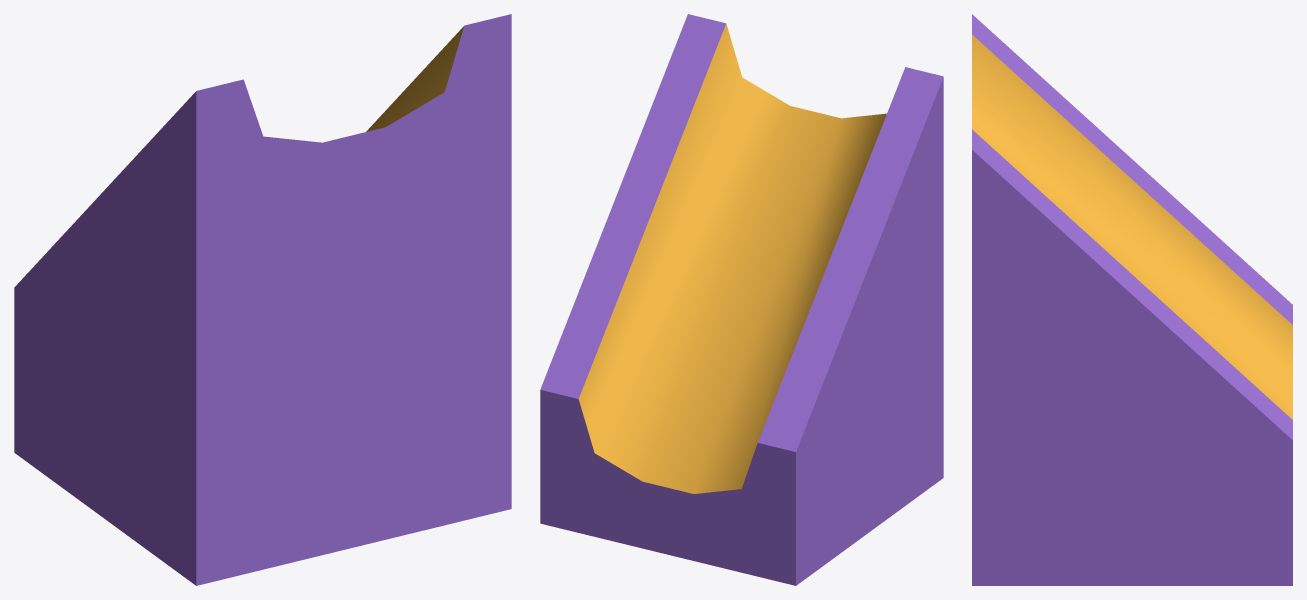
The model's file is kenney-marble-slant-solid-c.glb.
3 views of the same model, side by side, from view 1: azimuth 30°, elevation 25°; view 2: azimuth 150°, elevation 25°; view 3: azimuth 270°, elevation 25° (orthographic). The views are drawn at different scales.
Visible parts, largest first — view 1: slant-solid-c; view 2: slant-solid-c; view 3: slant-solid-c.
Boxes of the visible parts, x1,y1,x2,y2 form: slant-solid-c: (14,14,511,585); slant-solid-c: (540,14,943,585); slant-solid-c: (972,14,1292,585).
Bounding box in the file's own units: 1 × 1.5 × 1.
Materials: 1 (1 with a texture image).
